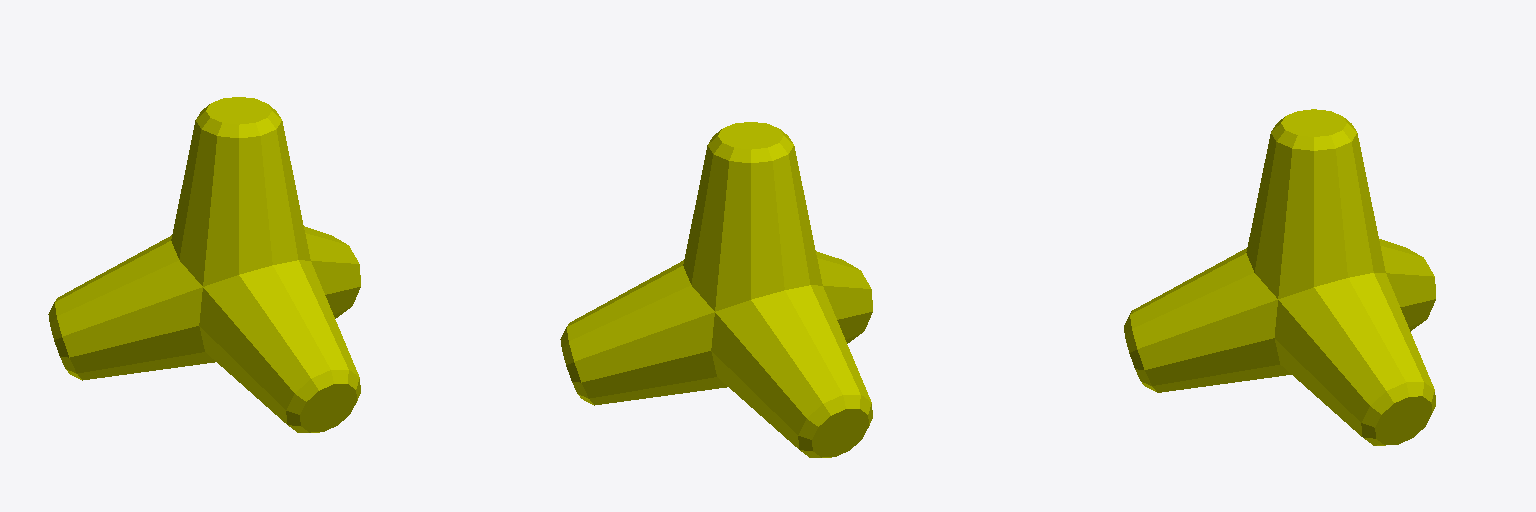
Rendered from gold_tetrapod.obj.
The picture shows the model from 3 angles: view 1: azimuth 30°, elevation 25°; view 2: azimuth 150°, elevation 25°; view 3: azimuth 270°, elevation 25°; orthographic projection.
Parts seen in each view (by area): view 1: Cylinder.001, Cylinder.002, Cylinder.004, Cylinder.003; view 2: Cylinder.001, Cylinder.004, Cylinder.003, Cylinder.002; view 3: Cylinder.001, Cylinder.003, Cylinder.002, Cylinder.004.
Part boxes in pixels (bbox=[...]): Cylinder.001: bbox=[171, 97, 310, 286]; Cylinder.002: bbox=[199, 260, 360, 432]; Cylinder.004: bbox=[48, 235, 215, 380]; Cylinder.003: bbox=[304, 226, 360, 318]; Cylinder.001: bbox=[683, 122, 822, 311]; Cylinder.004: bbox=[711, 285, 872, 457]; Cylinder.003: bbox=[560, 260, 727, 405]; Cylinder.002: bbox=[816, 251, 872, 343]; Cylinder.001: bbox=[1246, 109, 1385, 298]; Cylinder.003: bbox=[1275, 273, 1435, 445]; Cylinder.002: bbox=[1124, 248, 1291, 392]; Cylinder.004: bbox=[1379, 239, 1435, 331].
Size of the model in its own units: 1.19 by 0.9978 by 1.06.